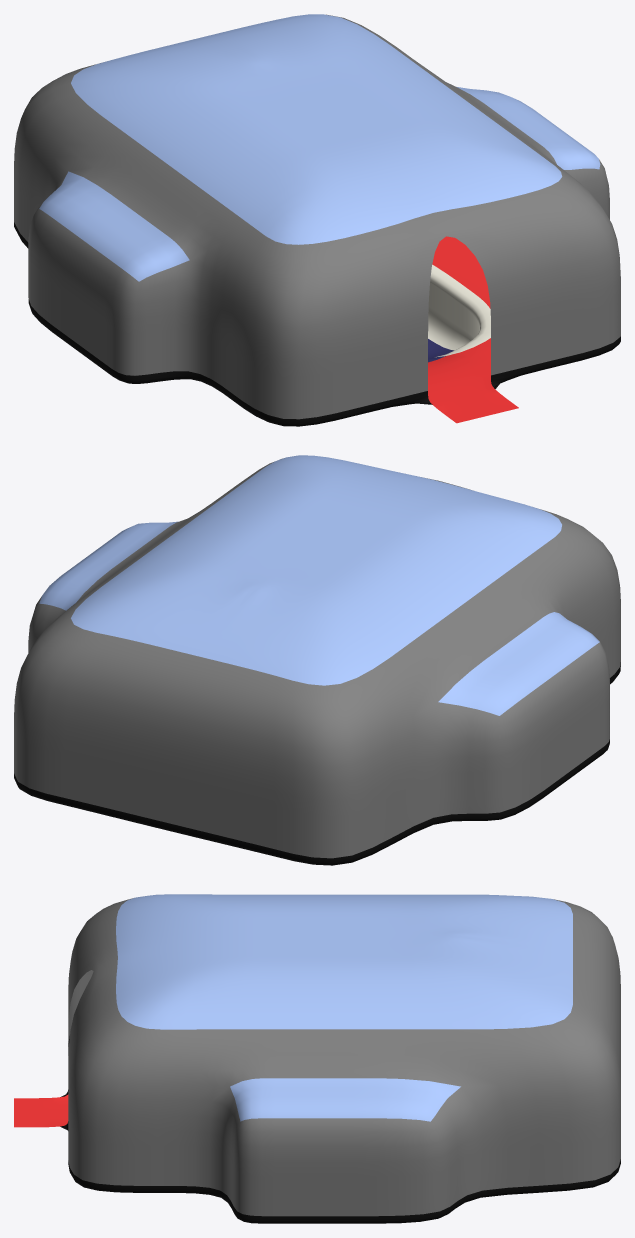
File: Room.fbx
3 renders of one model, top to bottom at view 1: azimuth 30°, elevation 25°; view 2: azimuth 150°, elevation 25°; view 3: azimuth 270°, elevation 25°, orthographic. The views are drawn at different scales.
Visible parts, largest first — view 1: RoomBase; view 2: RoomBase; view 3: RoomBase.
Boxes of the visible parts, x1,y1,x2,y2 form: RoomBase: (14, 14, 620, 426); RoomBase: (14, 455, 620, 865); RoomBase: (14, 894, 620, 1223).
Bounding box in the file's own units: 351 × 168 × 394.
